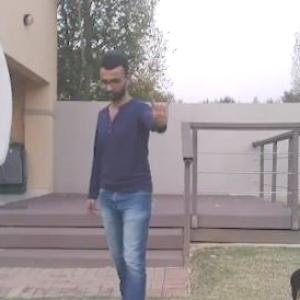takeoff-hand: (142, 81, 176, 125)
